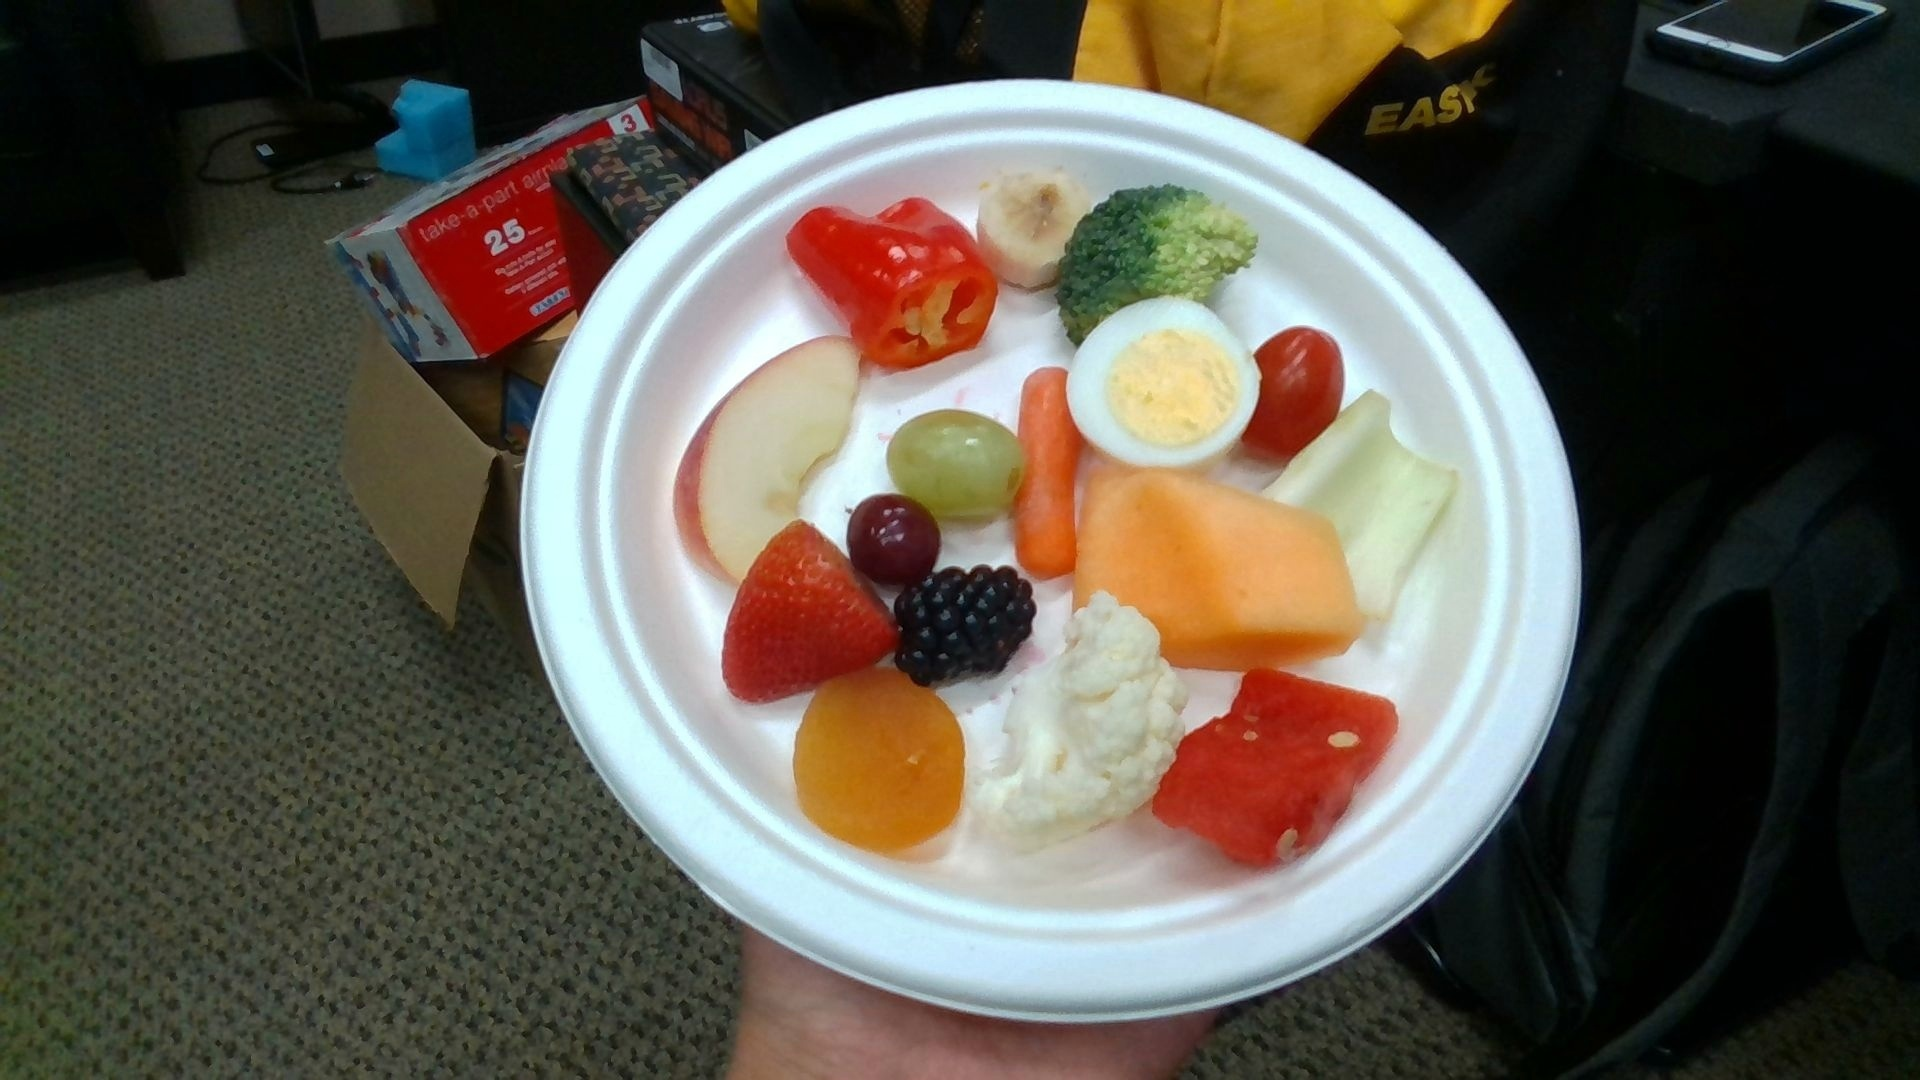apple: (674, 336, 858, 583)
apricot: (796, 671, 965, 847)
banana: (980, 164, 1087, 287)
bell_pepper: (787, 198, 997, 368)
blackberry: (897, 564, 1034, 684)
broccoli: (1062, 186, 1261, 343)
cantalope: (1073, 469, 1367, 666)
carrot: (1021, 367, 1075, 578)
cauliflower: (972, 596, 1184, 848)
celery: (1261, 392, 1455, 611)
cherry_tomato: (1245, 328, 1342, 462)
egg: (1067, 295, 1262, 465)
grape_green: (887, 407, 1025, 520)
grape_purple: (849, 496, 940, 582)
melon: (1153, 671, 1395, 861)
strawberry: (725, 524, 894, 700)
